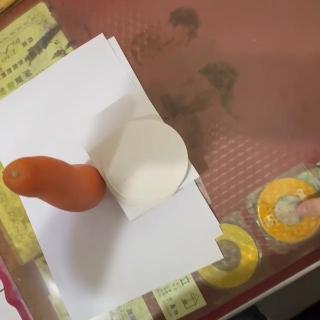carrot: (1, 154, 105, 214)
